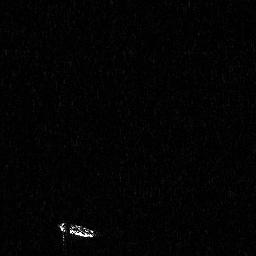ship: (56, 220, 100, 246)
